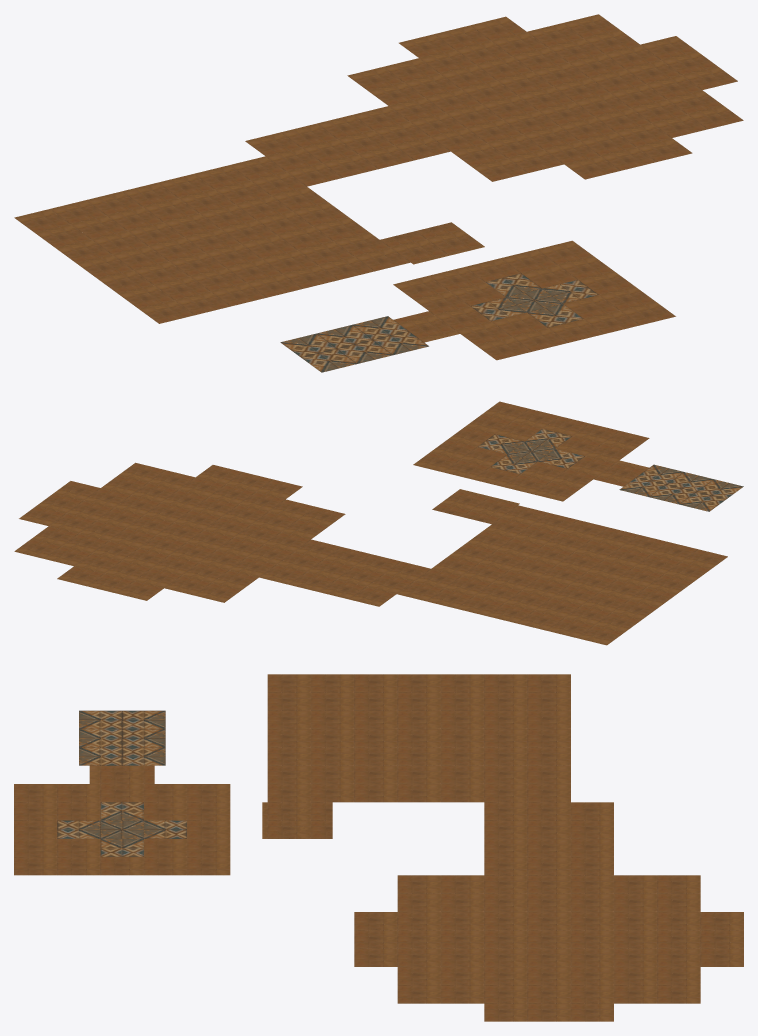
File: Pyramid_Grave2F_all.FBX
3 renders of one model, top to bottom at view 1: azimuth 30°, elevation 25°; view 2: azimuth 150°, elevation 25°; view 3: azimuth 270°, elevation 25°, orthographic. The views are drawn at different scales.
Visible parts, largest first — view 1: Pyramid_Grave2F04, Pyramid_Grave2F02, Pyramid_Grave2F002, Pyramid_Grave2F03; view 2: Pyramid_Grave2F04, Pyramid_Grave2F02, Pyramid_Grave2F002, Pyramid_Grave2F03; view 3: Pyramid_Grave2F04, Pyramid_Grave2F02, Pyramid_Grave2F002, Pyramid_Grave2F03.
Part boxes in pixels (x1,y1,x2,y2): Pyramid_Grave2F04: (347, 14, 743, 181); Pyramid_Grave2F02: (14, 156, 484, 323); Pyramid_Grave2F002: (280, 240, 675, 372); Pyramid_Grave2F03: (245, 106, 450, 186); Pyramid_Grave2F04: (14, 462, 345, 602); Pyramid_Grave2F02: (397, 489, 727, 645); Pyramid_Grave2F002: (413, 401, 743, 511); Pyramid_Grave2F03: (259, 539, 430, 606); Pyramid_Grave2F04: (354, 875, 743, 1021); Pyramid_Grave2F02: (262, 674, 570, 838); Pyramid_Grave2F002: (14, 710, 230, 875); Pyramid_Grave2F03: (484, 802, 613, 875).
Bounding box in the file's own units: 76 × 3.02e-07 × 67.45.
